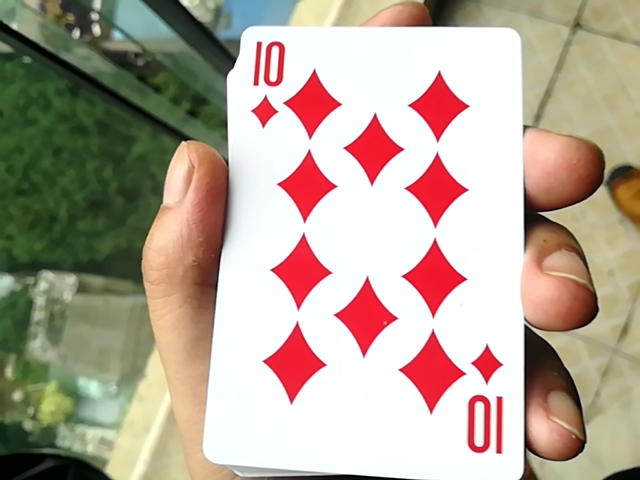fk 10: (201, 26, 532, 480)
